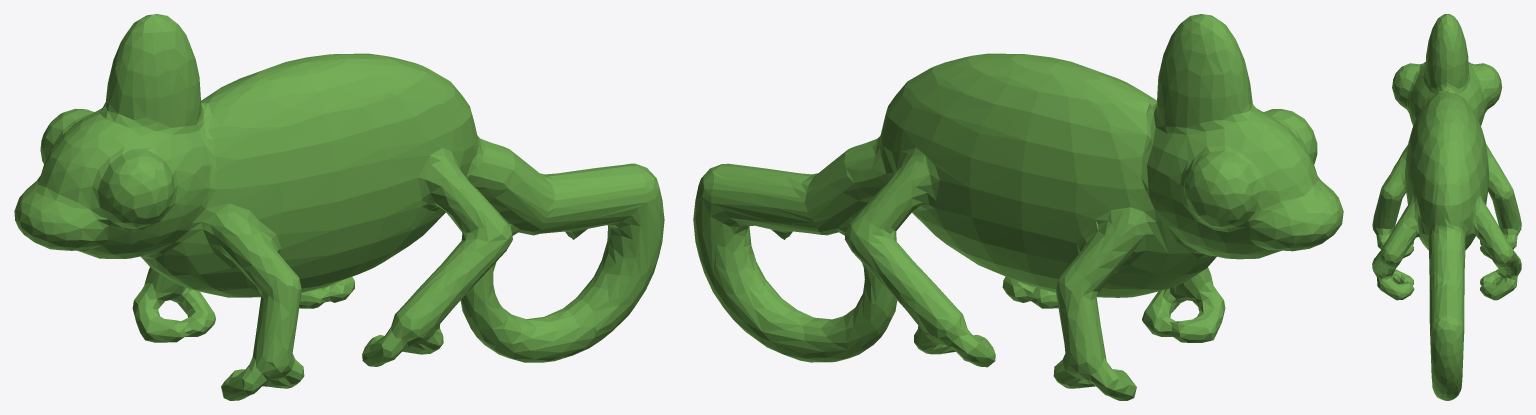
Rendered from NEW_RECOVERY_056_LOD0.glb.
The picture shows the model from 3 angles, left to right: view 1: azimuth 30°, elevation 25°; view 2: azimuth 150°, elevation 25°; view 3: azimuth 270°, elevation 25°; orthographic projection. The views are drawn at different scales.
Visible parts, largest first — view 1: Chameleon_solid; view 2: Chameleon_solid; view 3: Chameleon_solid.
Part boxes in pixels (x1,y1,x2,y2): Chameleon_solid: (14,14,664,400); Chameleon_solid: (693,14,1343,400); Chameleon_solid: (1372,14,1521,400).
Bounding box in the file's own units: 5.4 × 3.56 × 1.84.
